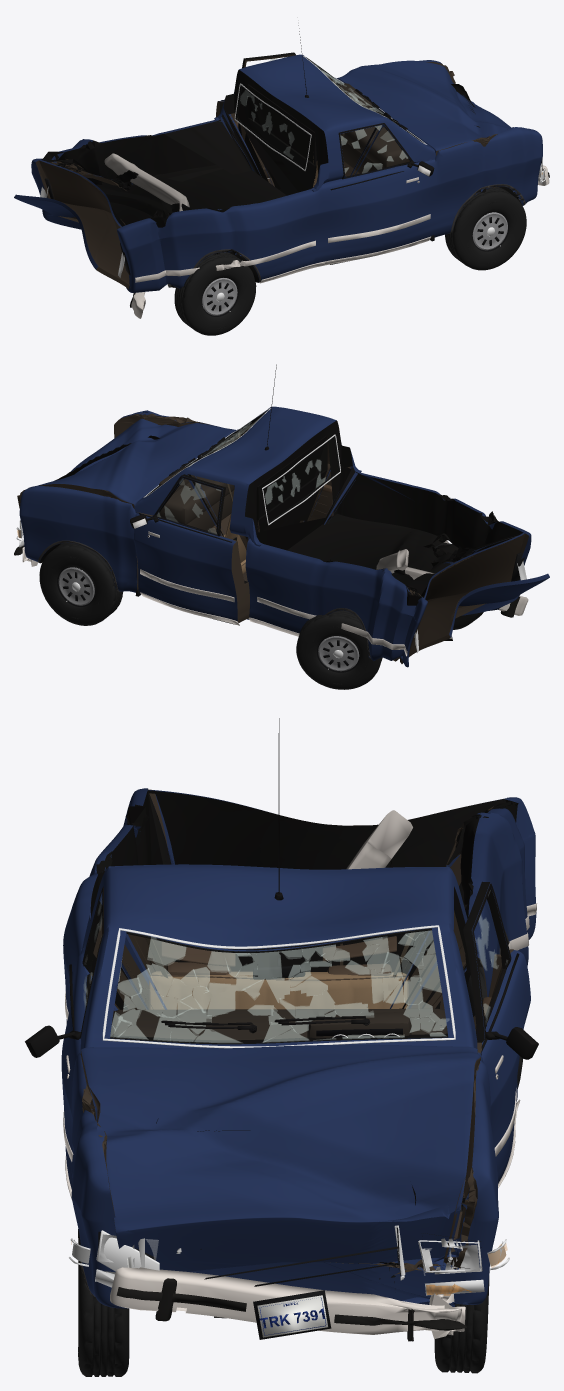
The model's file is pickup87_rear_d2_lod1.glb.
3 renders of one model, top to bottom at view 1: azimuth 30°, elevation 25°; view 2: azimuth 150°, elevation 25°; view 3: azimuth 270°, elevation 25°, orthographic. The views are drawn at different scales.
Parts seen in each view (by area): view 1: Body, Hood, Wheel_FR_mesh, Wheel_RR_mesh, Door_FR, Tailgate, Interior, Trim, Trim_FR, Bumper_R, Glass, Glass_FR (+2 smaller); view 2: Body, Door_FL, Hood, Wheel_FL_mesh, Wheel_RL_mesh, Tailgate, Interior, Glass, Trim, Trim_FL, Bumper_R, Glass_FL (+2 smaller); view 3: Body, Hood, Glass, Interior, Bumper_F, Ends, Door_FL, Wheel_FR_mesh, Wheel_FL_mesh, Trim_FL, Trim, Bumper_R (+3 smaller).
Part boxes in pixels (<box>): Body: <box>31,54,542,292</box>; Hood: <box>337,60,511,187</box>; Wheel_FR_mesh: <box>445,187,526,270</box>; Wheel_RR_mesh: <box>174,252,256,335</box>; Door_FR: <box>323,126,433,259</box>; Tailgate: <box>14,194,130,288</box>; Interior: <box>313,83,407,186</box>; Trim: <box>135,25,525,286</box>; Trim_FR: <box>324,123,434,265</box>; Bumper_R: <box>104,153,189,318</box>; Glass: <box>234,55,426,170</box>; Glass_FR: <box>340,125,410,179</box>; Body: <box>17,406,531,667</box>; Door_FL: <box>134,474,249,622</box>; Hood: <box>38,418,235,508</box>; Wheel_FL_mesh: <box>39,543,122,625</box>; Wheel_RL_mesh: <box>296,610,382,689</box>; Tailgate: <box>400,573,549,663</box>; Interior: <box>158,438,246,573</box>; Glass: <box>143,408,340,525</box>; Trim: <box>38,364,448,660</box>; Trim_FL: <box>130,476,239,625</box>; Bumper_R: <box>376,549,528,617</box>; Glass_FL: <box>156,475,223,536</box>; Body: <box>61,788,536,1308</box>; Hood: <box>80,1044,480,1277</box>; Glass: <box>102,925,455,1048</box>; Interior: <box>110,936,447,1040</box>; Bumper_F: <box>110,1267,466,1341</box>; Ends: <box>69,1225,509,1339</box>; Door_FL: <box>463,881,530,1183</box>; Wheel_FR_mesh: <box>78,1229,129,1376</box>; Wheel_FL_mesh: <box>434,1205,489,1373</box>; Trim_FL: <box>472,883,538,1188</box>; Trim: <box>65,718,537,1297</box>; Bumper_R: <box>346,810,412,869</box>.
Size of the model in its own units: 4.77 by 2.59 by 2.36.
Materials: 33 (5 with a texture image).
